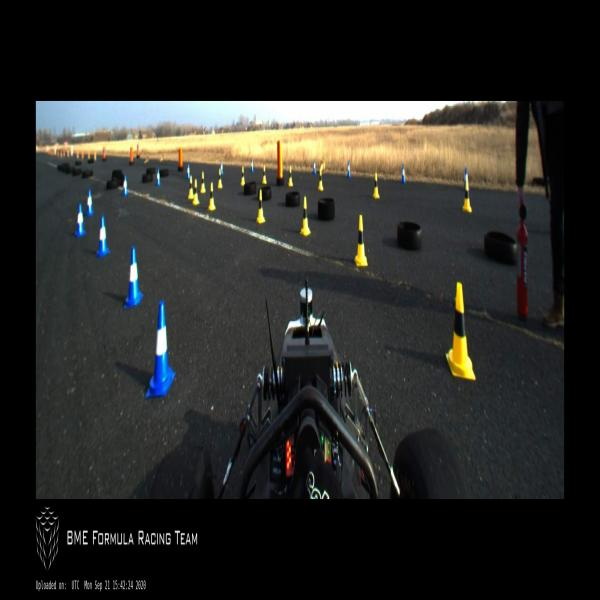blue_cone: (145, 300, 176, 396), (124, 246, 143, 308), (97, 215, 111, 258), (74, 203, 86, 237), (85, 188, 94, 216), (463, 168, 470, 190), (122, 175, 128, 196), (156, 169, 161, 186), (402, 164, 406, 183), (347, 161, 351, 178), (250, 159, 254, 172), (313, 160, 316, 176), (187, 163, 190, 179), (221, 161, 223, 174)
yellow_cone: (446, 283, 475, 379), (354, 214, 368, 266), (300, 196, 311, 236), (256, 189, 266, 223), (462, 182, 471, 212), (208, 182, 216, 210), (192, 178, 199, 205), (373, 172, 379, 198), (188, 175, 194, 199), (217, 168, 223, 188), (200, 171, 205, 193), (288, 165, 293, 186), (318, 169, 323, 190), (262, 166, 267, 184), (241, 166, 245, 186), (319, 160, 325, 172)
